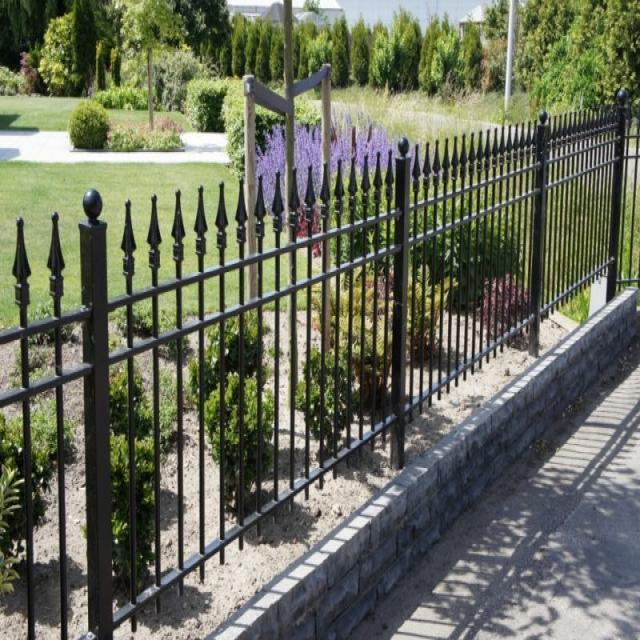fence line: (44, 156, 403, 519), (406, 111, 608, 356)
